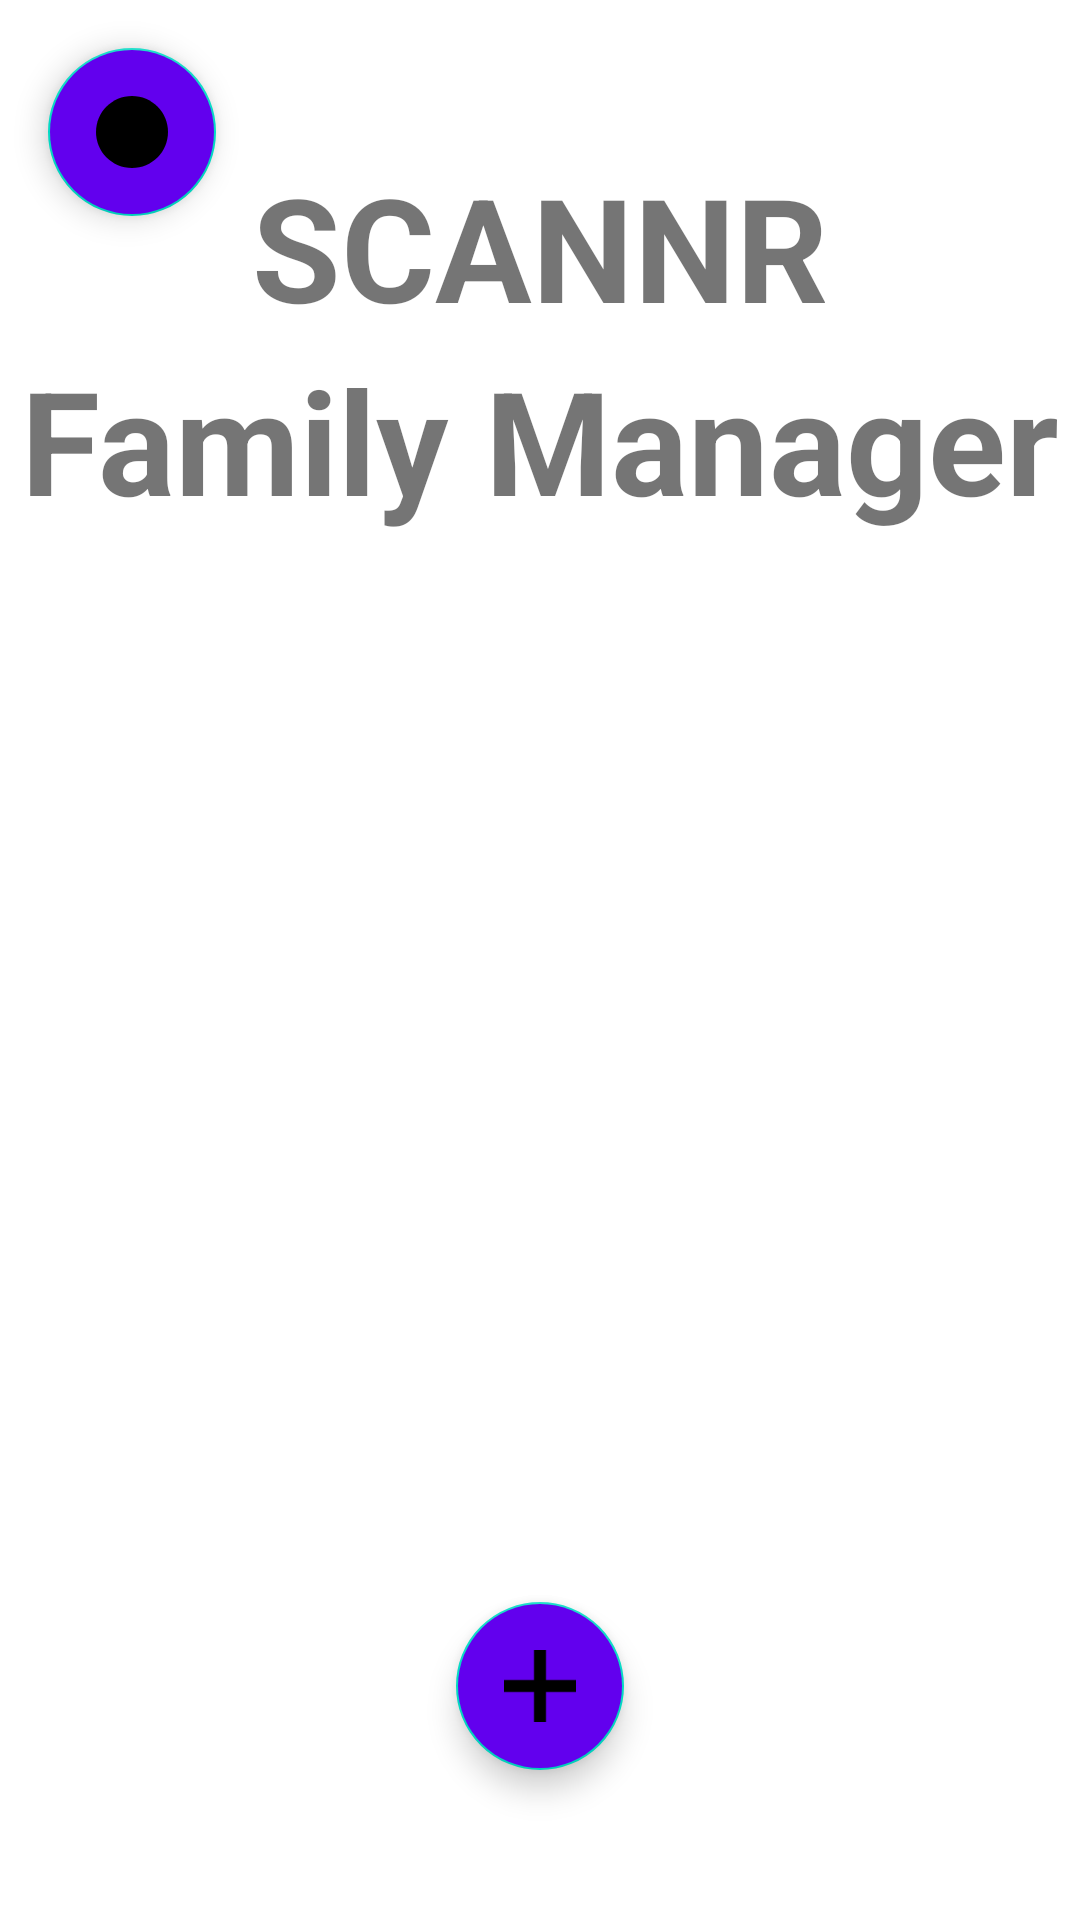

Point at icon controls on the screen. Image size 1080x1920, points as point (x, y).
add child: point (540, 1686)
